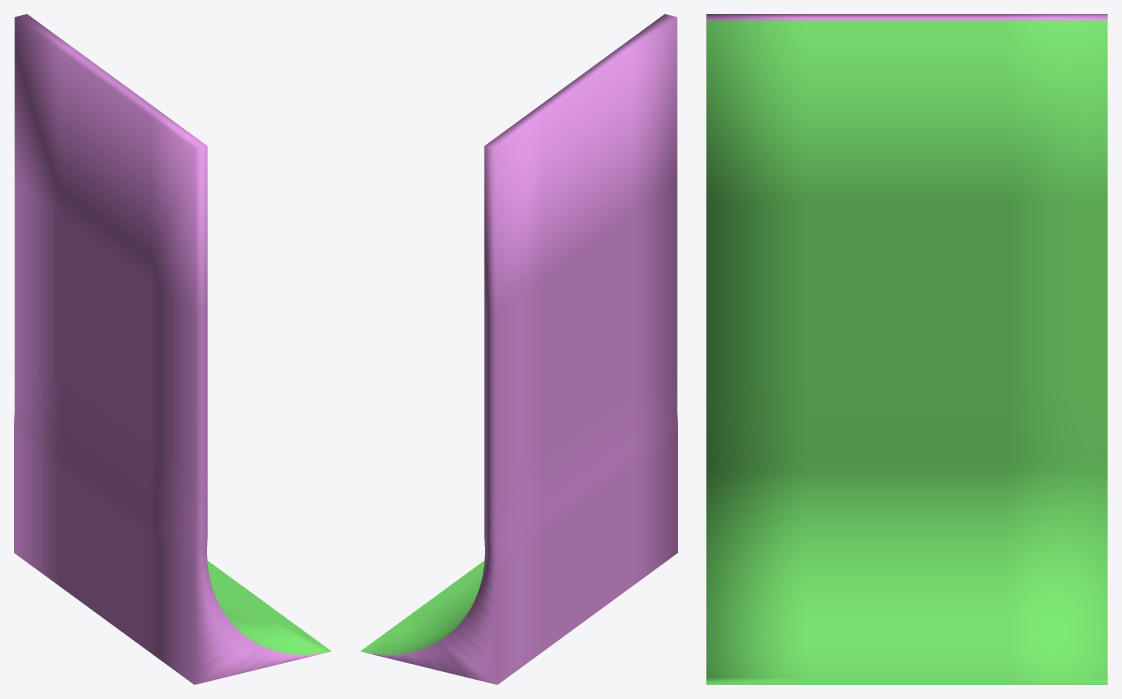
File: GravityPlane.fbx
3 renders of one model, left to right at view 1: azimuth 30°, elevation 25°; view 2: azimuth 150°, elevation 25°; view 3: azimuth 270°, elevation 25°, orthographic. The views are drawn at different scales.
Parts seen in each view (by area): view 1: GravityPlane; view 2: GravityPlane; view 3: GravityPlane.
Boxes of the visible parts, bbox=[...] form: GravityPlane: bbox=[14, 14, 331, 684]; GravityPlane: bbox=[360, 14, 677, 684]; GravityPlane: bbox=[706, 14, 1107, 684].
Bounding box in the file's own units: 8.8 × 32.78 × 20.
